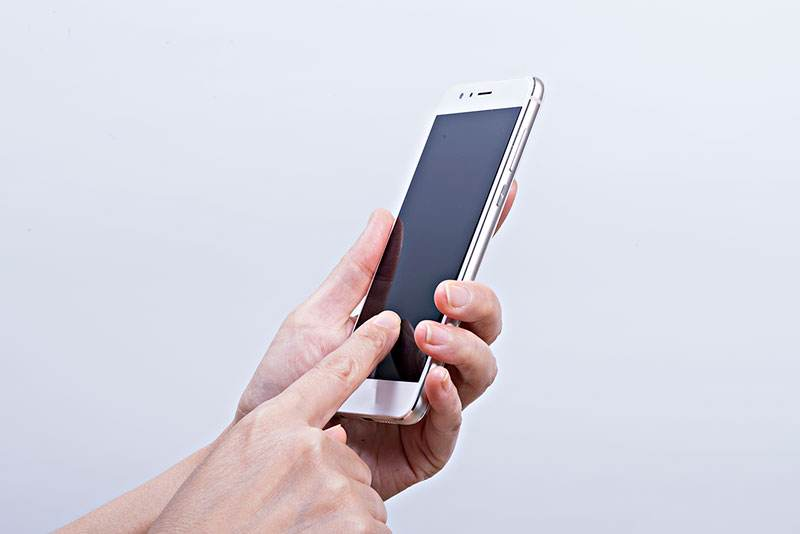phone: (238, 75, 546, 502)
